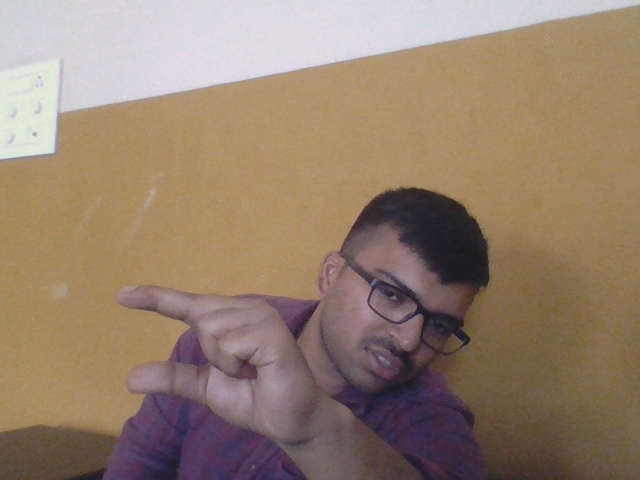No: (103, 275, 327, 444)
